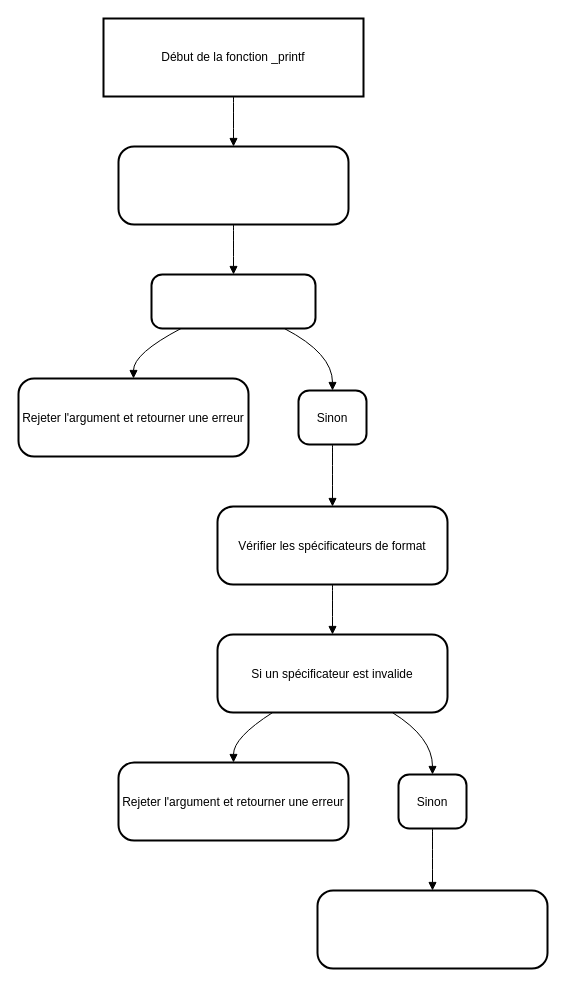
This 565x986 diagram has some shape labels left out. Here are the shapes that lost their labels. From the top down, the box of each, then its label:
(117, 145, 349, 225): Vérifier la validité de l'argument format
(150, 273, 316, 329): Si format est NULL
(316, 889, 548, 969): Interpréter et traiter le format
